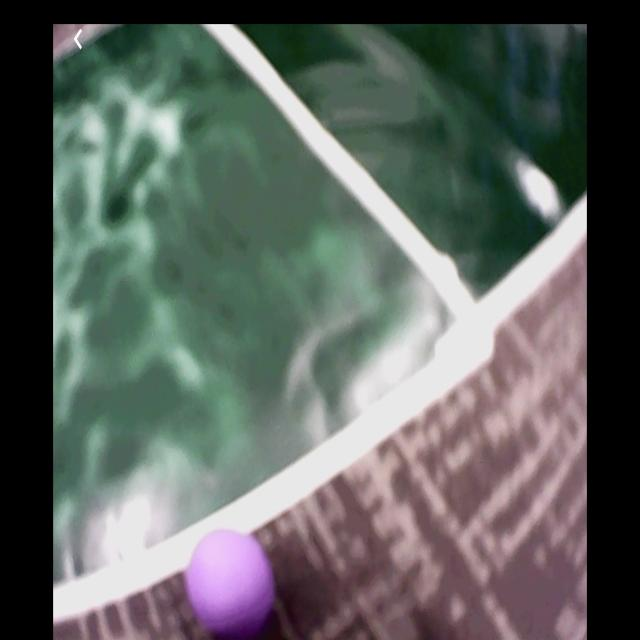ball: (188, 527, 274, 630)
